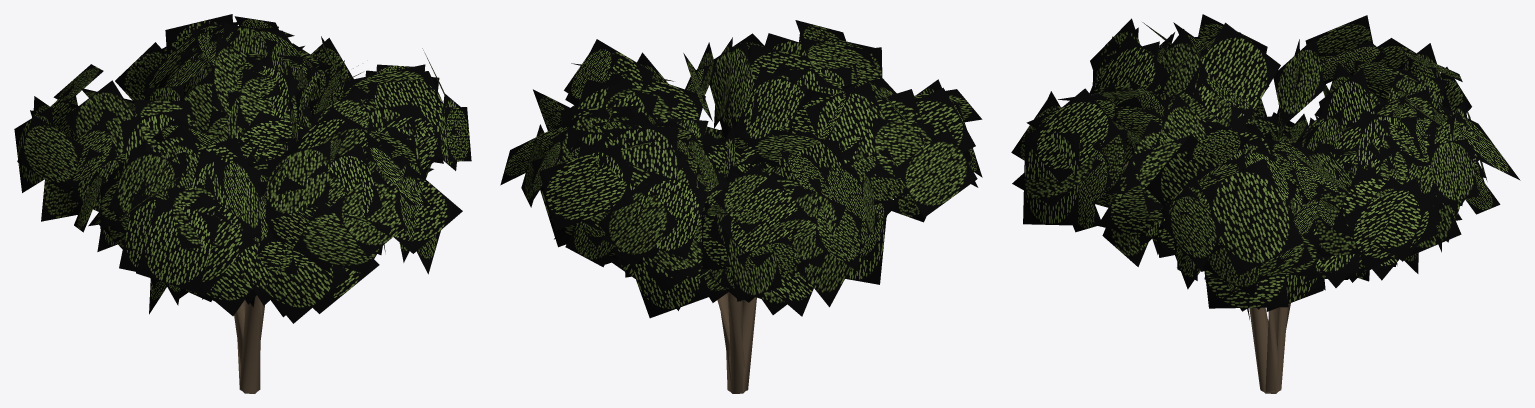
The model's file is andes_pacay_lod0.glb.
The picture shows the model from 3 angles, left to right: view 1: azimuth 30°, elevation 25°; view 2: azimuth 150°, elevation 25°; view 3: azimuth 270°, elevation 25°; orthographic projection. The views are drawn at different scales.
Visible parts, largest first — view 1: GEO-Andes_pacay_LOD0; view 2: GEO-Andes_pacay_LOD0; view 3: GEO-Andes_pacay_LOD0.
Boxes of the visible parts, bbox=[...] form: GEO-Andes_pacay_LOD0: bbox=[14, 14, 471, 393]; GEO-Andes_pacay_LOD0: bbox=[500, 20, 982, 393]; GEO-Andes_pacay_LOD0: bbox=[1011, 14, 1520, 393].
Size of the model in its own units: 5.46 by 4.08 by 5.74.
2 materials, 1 textured.
